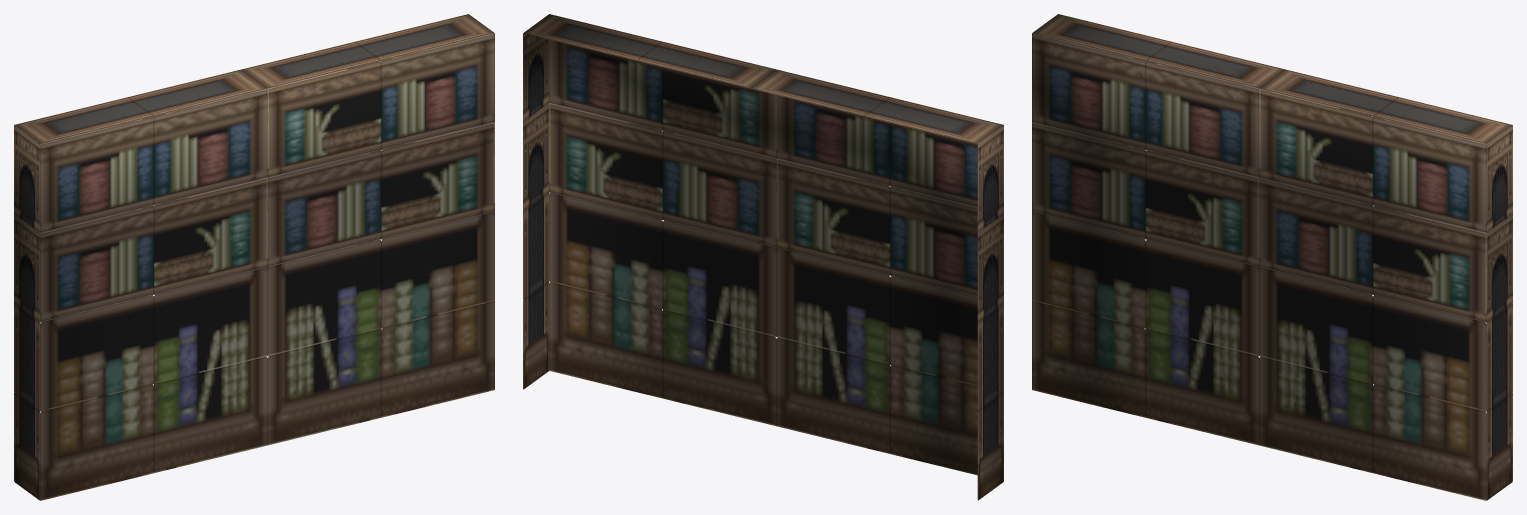
The picture shows the model from 3 angles, left to right: view 1: azimuth 30°, elevation 25°; view 2: azimuth 150°, elevation 25°; view 3: azimuth 330°, elevation 25°; orthographic projection.
Parts seen in each view (by area): view 1: T1L4M001_21; view 2: T1L4M001_21; view 3: T1L4M001_21.
Boxes of the visible parts, box(x1,y1,x2,y2) form: T1L4M001_21: box(14, 14, 494, 500); T1L4M001_21: box(523, 14, 1003, 500); T1L4M001_21: box(1032, 14, 1512, 500).
Bounding box in the file's own units: 4 × 3 × 0.3994.
